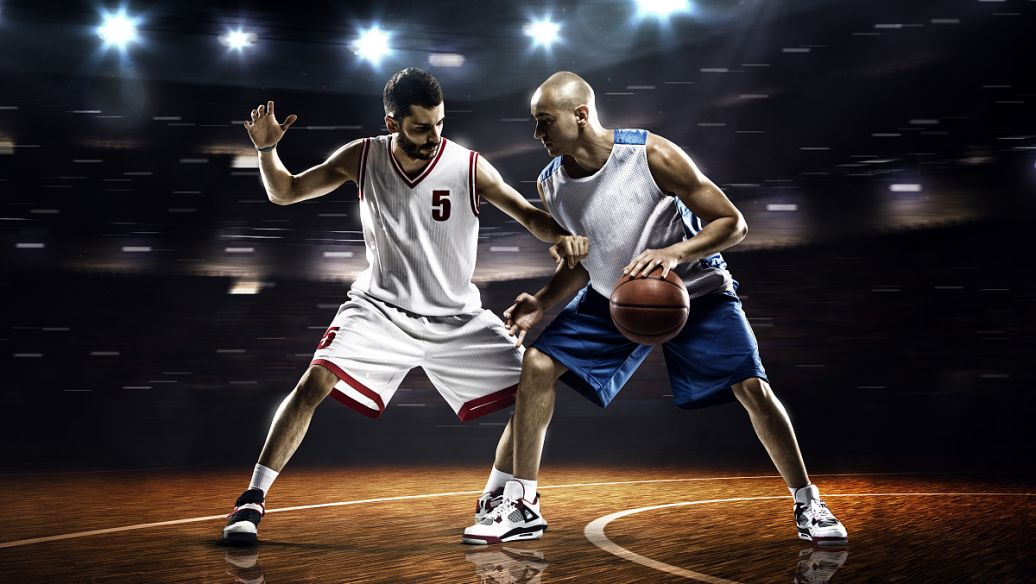ball: (610, 263, 691, 346)
